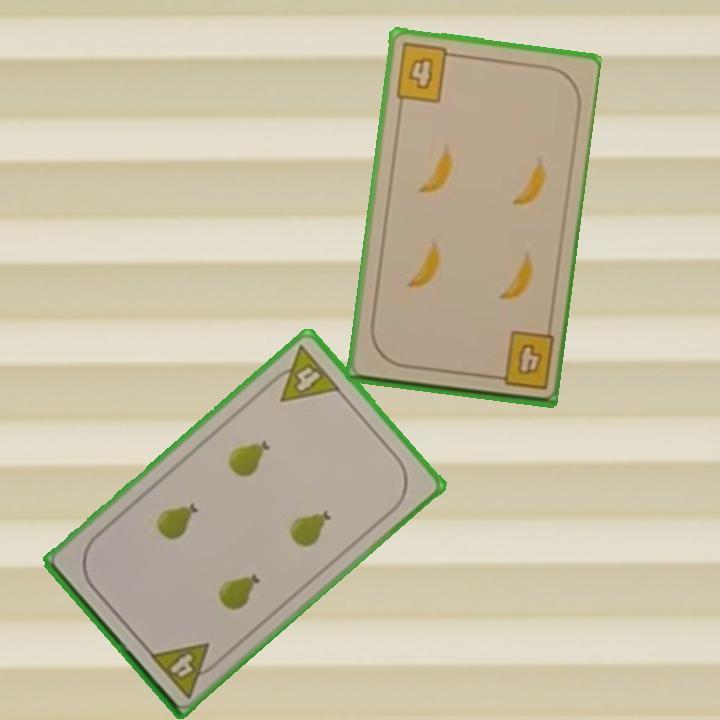4b: (485, 328, 556, 393), (392, 39, 460, 106)
4p: (263, 342, 344, 405), (146, 638, 224, 701)
